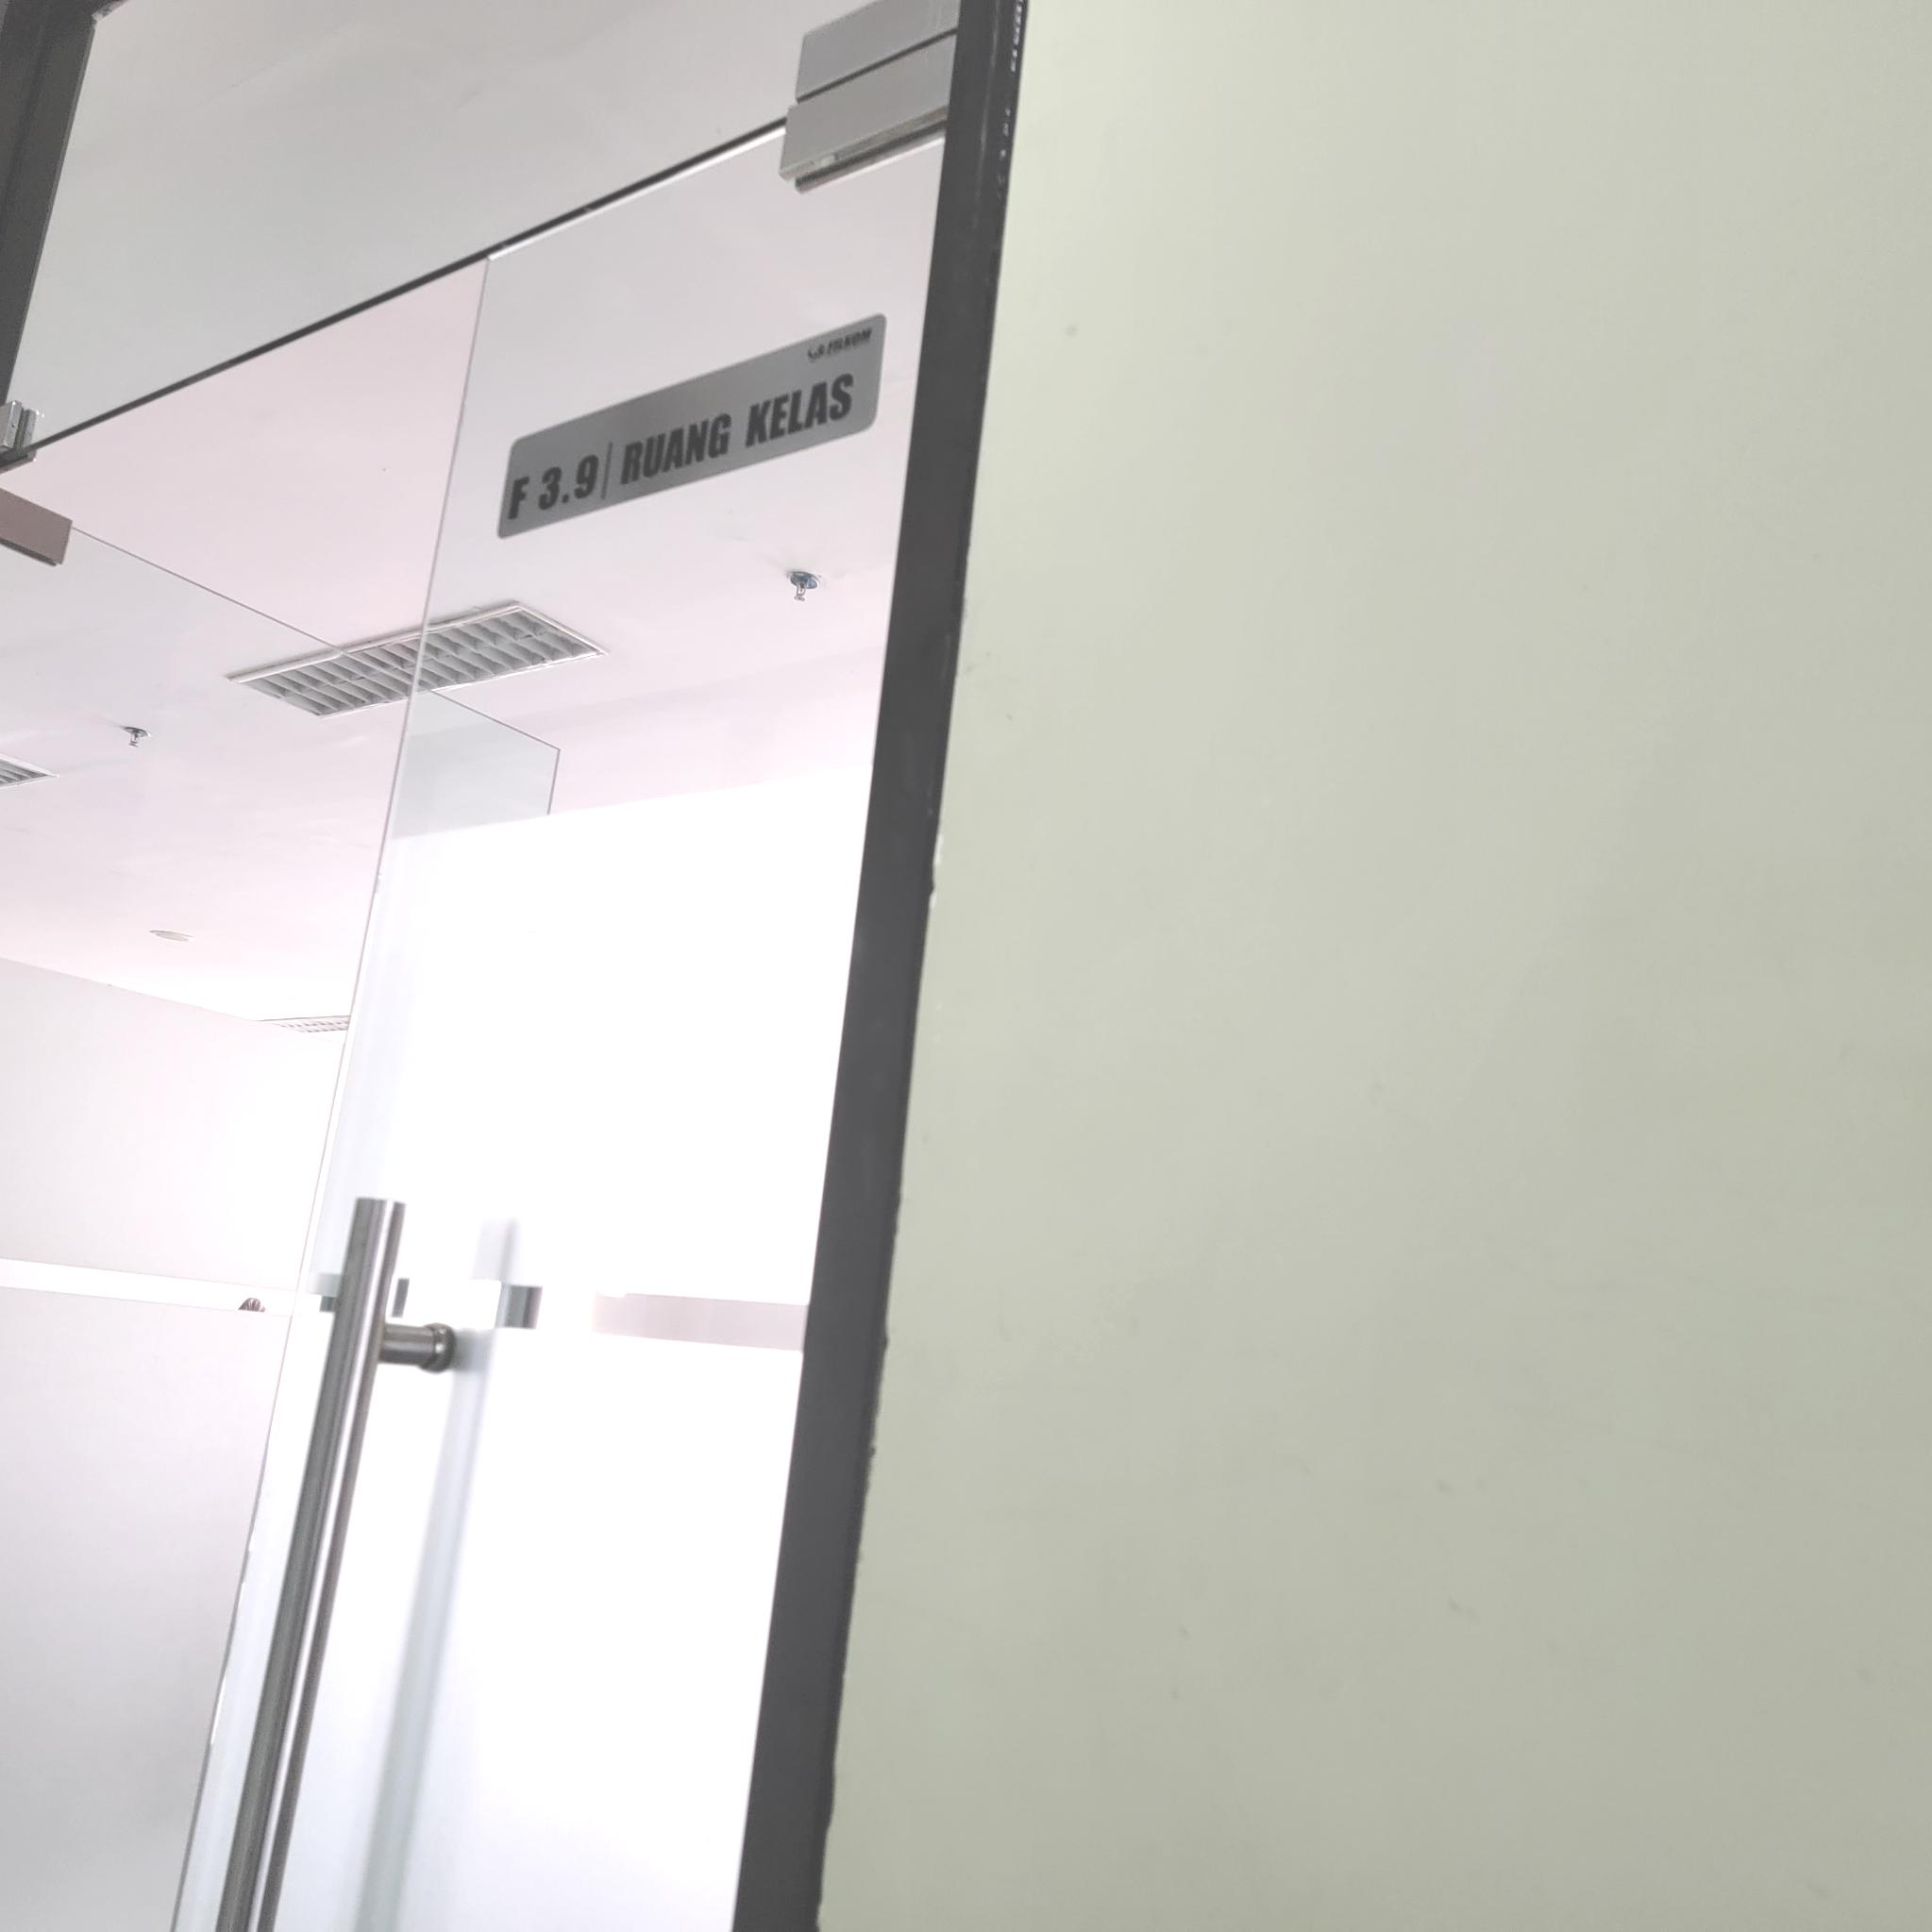plate: (497, 315, 892, 541)
